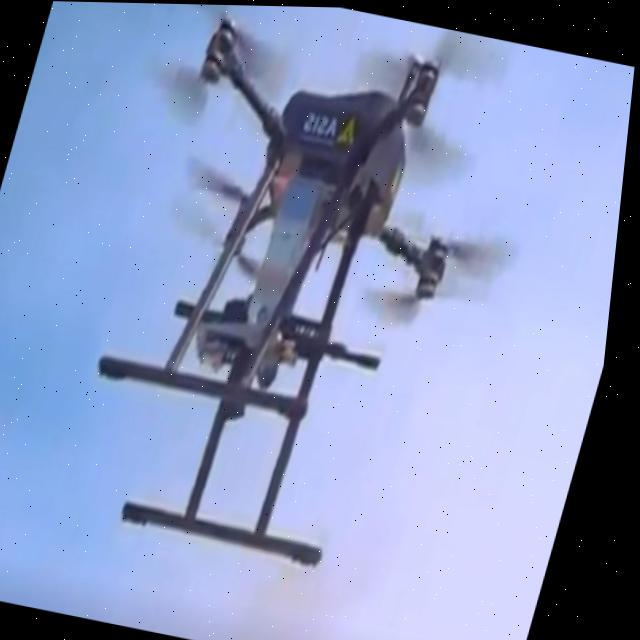drones: (13, 1, 568, 616)
